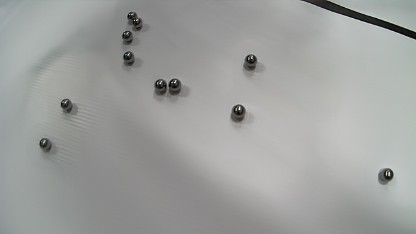ironball: (378, 167, 394, 184), (231, 104, 245, 121), (244, 54, 257, 68), (168, 78, 181, 92), (155, 78, 167, 92), (60, 98, 72, 111), (131, 17, 143, 30), (39, 138, 51, 151), (123, 51, 134, 64), (122, 30, 133, 42), (127, 11, 137, 21)
